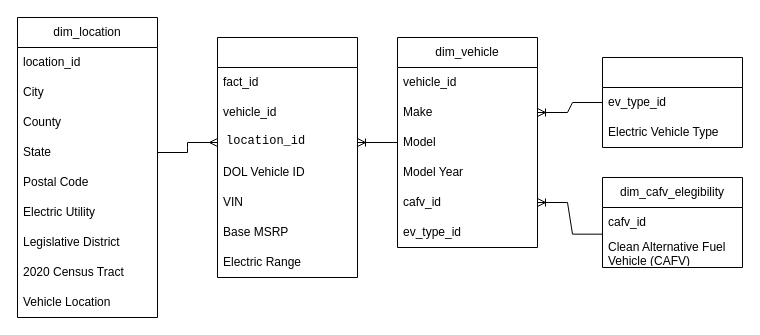
Some shapes in this 760 by 335 pixel diagram are drawn without their labels. The box of each missing label's shape, as (x1, y1, x2, y2) in pixels:
dim_ev_type: (602, 56, 742, 148)
fact_vehicle: (216, 36, 358, 278)
